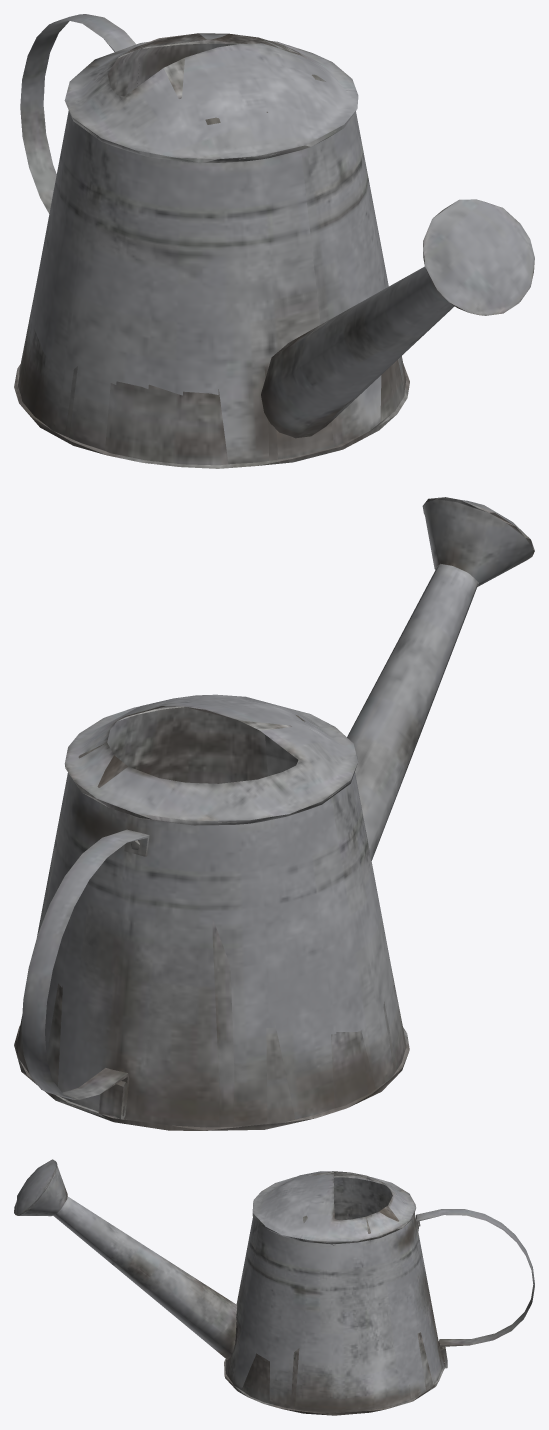
The model's file is watering_can_metal_01.glb.
3 renders of one model, top to bottom at view 1: azimuth 30°, elevation 25°; view 2: azimuth 150°, elevation 25°; view 3: azimuth 270°, elevation 25°, orthographic. The views are drawn at different scales.
Visible parts, largest first — view 1: watering_can_metal_01; view 2: watering_can_metal_01; view 3: watering_can_metal_01.
Boxes of the visible parts, x1=… form: watering_can_metal_01: x1=14, y1=14, x2=534, y2=468; watering_can_metal_01: x1=14, y1=497, x2=534, y2=1130; watering_can_metal_01: x1=14, y1=1159, x2=534, y2=1415.
Bounding box in the file's own units: 0.1915 × 0.1973 × 0.452.
1 material, 1 textured.
